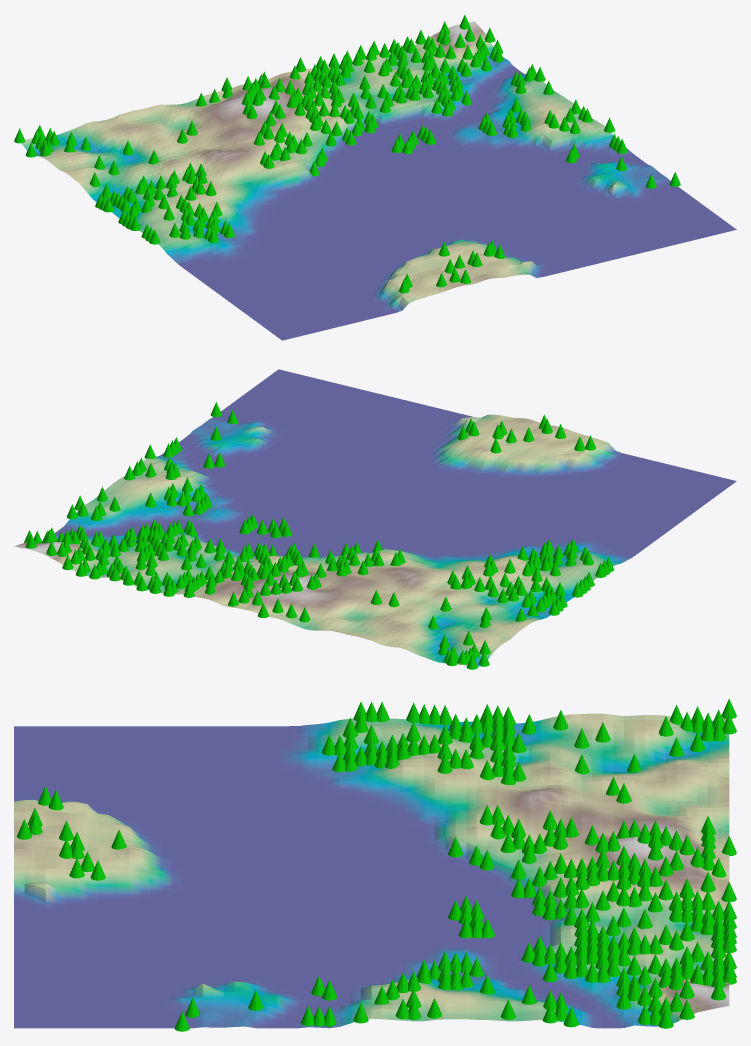
The model's file is 000927_with_tree.glb.
The picture shows the model from 3 angles, top to bottom: view 1: azimuth 30°, elevation 25°; view 2: azimuth 150°, elevation 25°; view 3: azimuth 270°, elevation 25°; orthographic projection. The views are drawn at different scales.
Visible parts, largest first — view 1: terrain, trees; view 2: terrain, trees; view 3: terrain, trees.
Part boxes in pixels (x1,y1,x2,y2): terrain: (22,21,736,340); trees: (14,14,680,293); terrain: (14,369,736,666); trees: (24,402,614,669); terrain: (14,713,729,1028); trees: (17,698,736,1031).
Size of the model in its own units: 0.0187 by 0.00116 by 0.0185.
